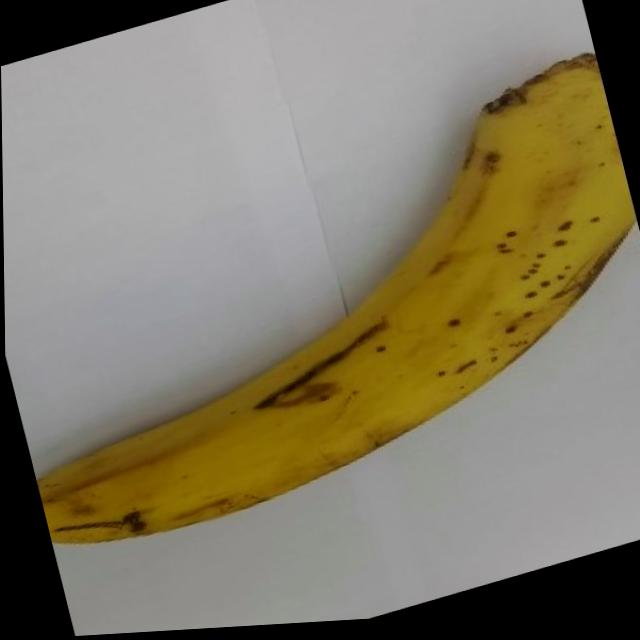Banana: (1, 52, 640, 567)
